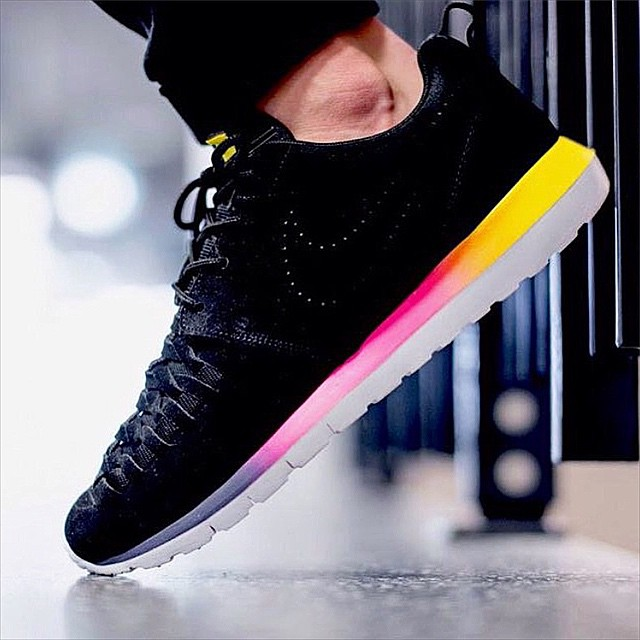sneaker: (37, 1, 631, 609)
